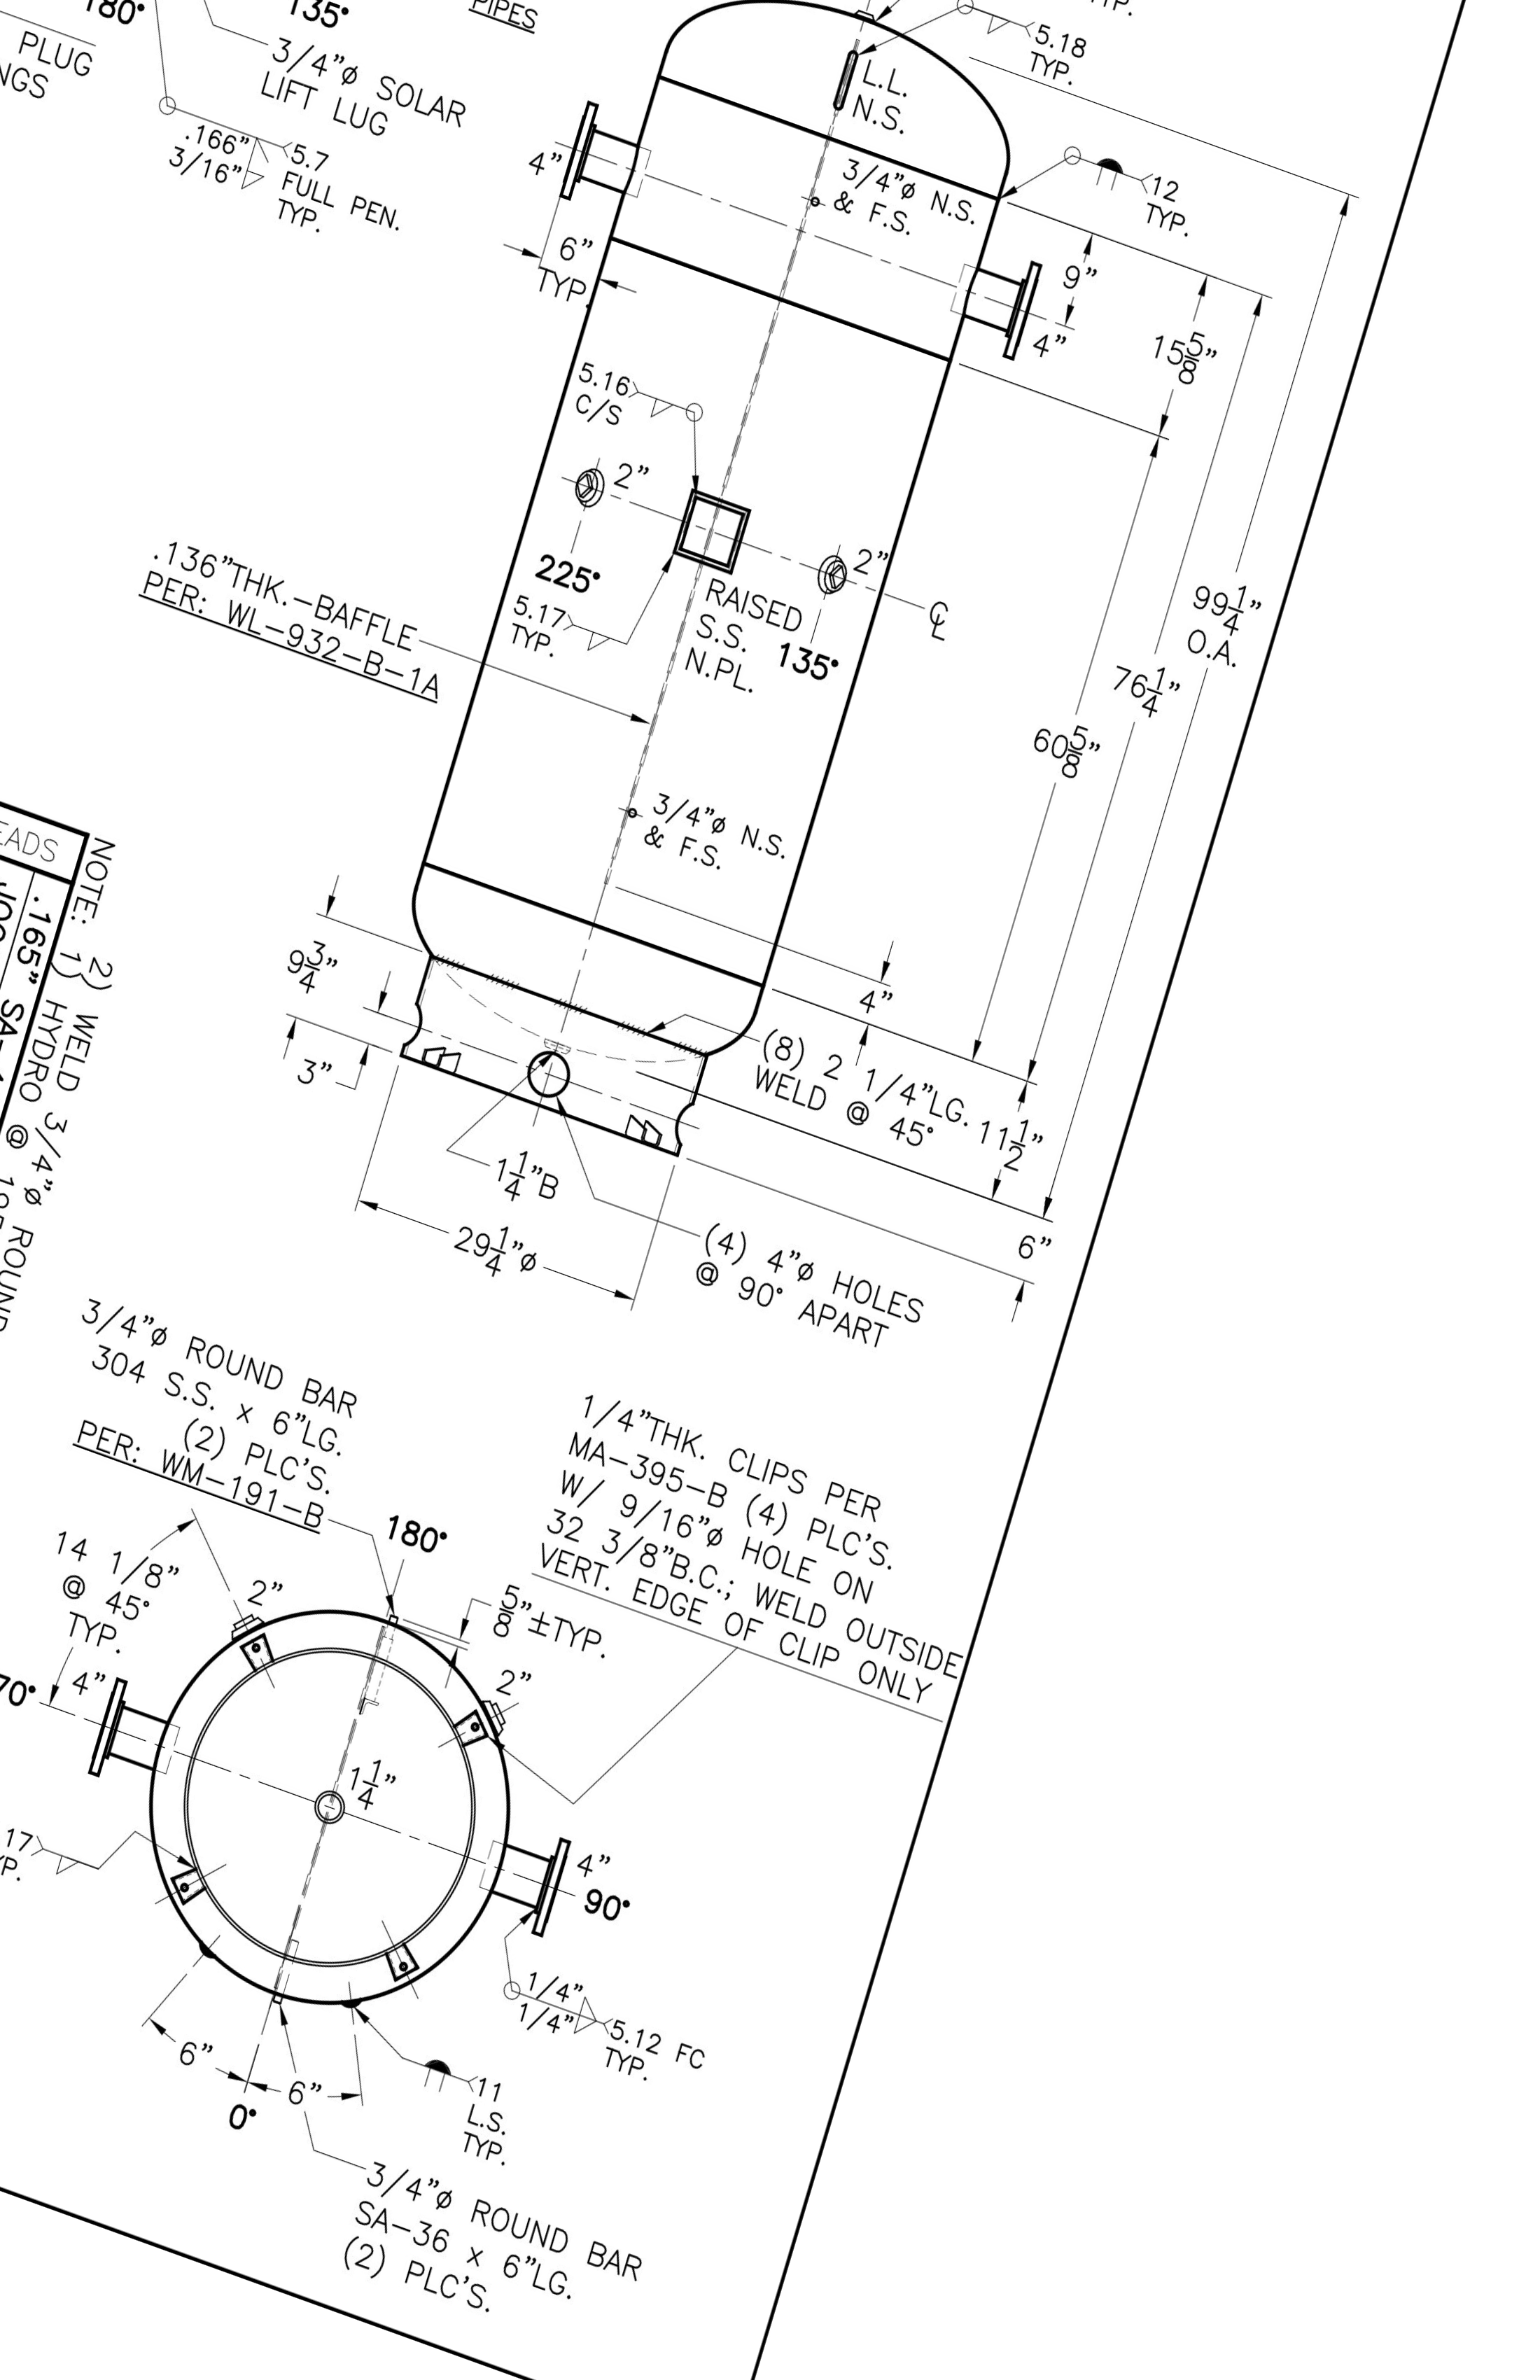Nozzle: (947, 226, 1086, 404), (545, 88, 678, 245), (94, 1655, 213, 1814), (489, 1811, 590, 1964)
